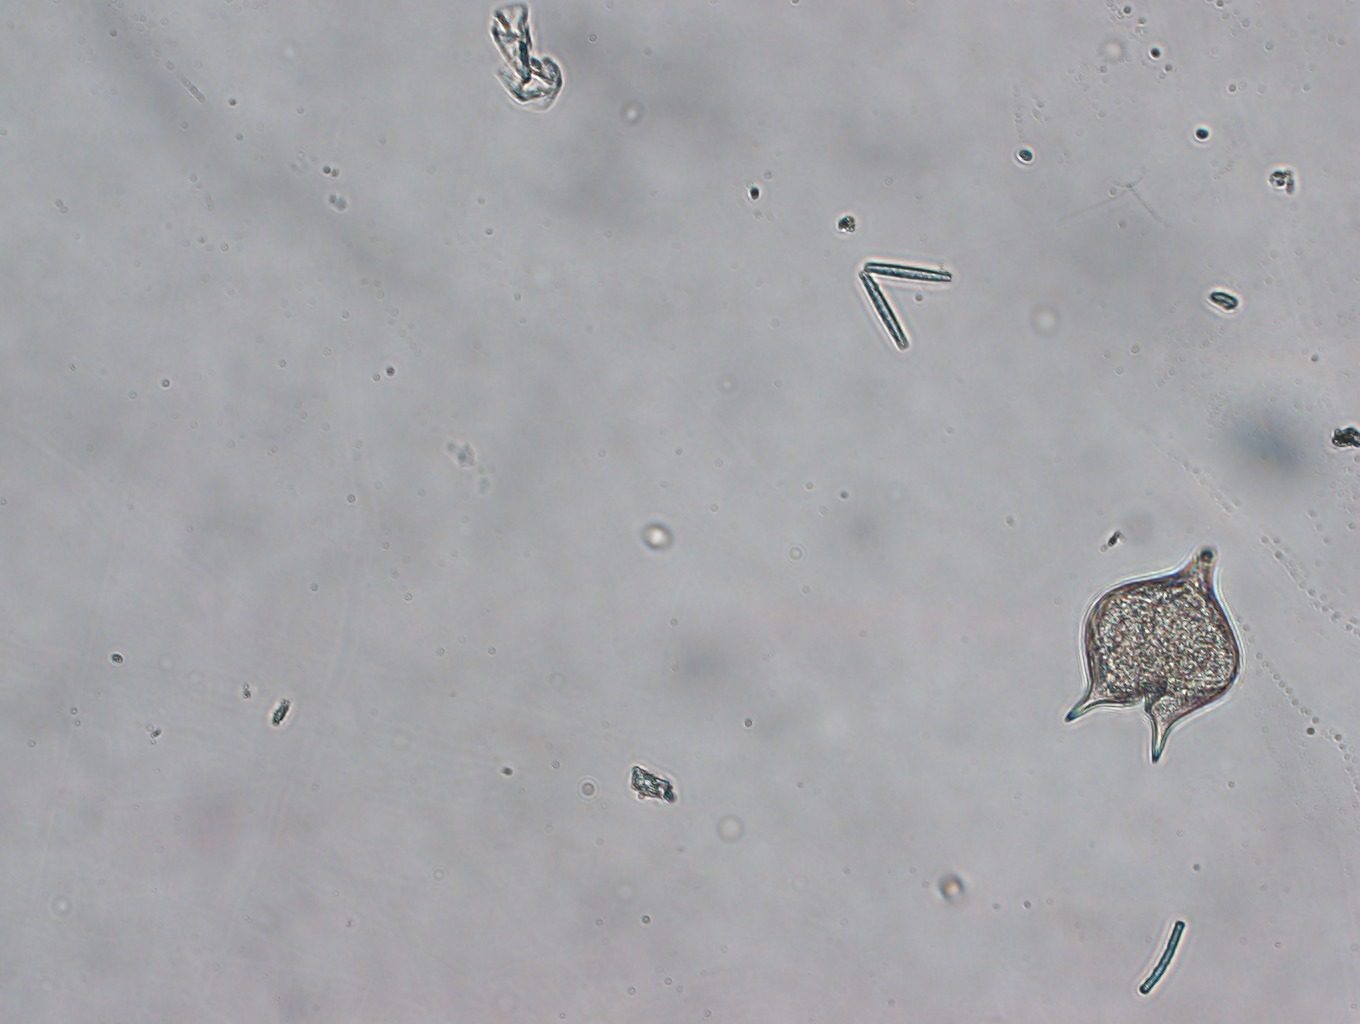protoperidinium: (1065, 546, 1242, 764)
thalassionema nitzschioides: (857, 261, 955, 350)
